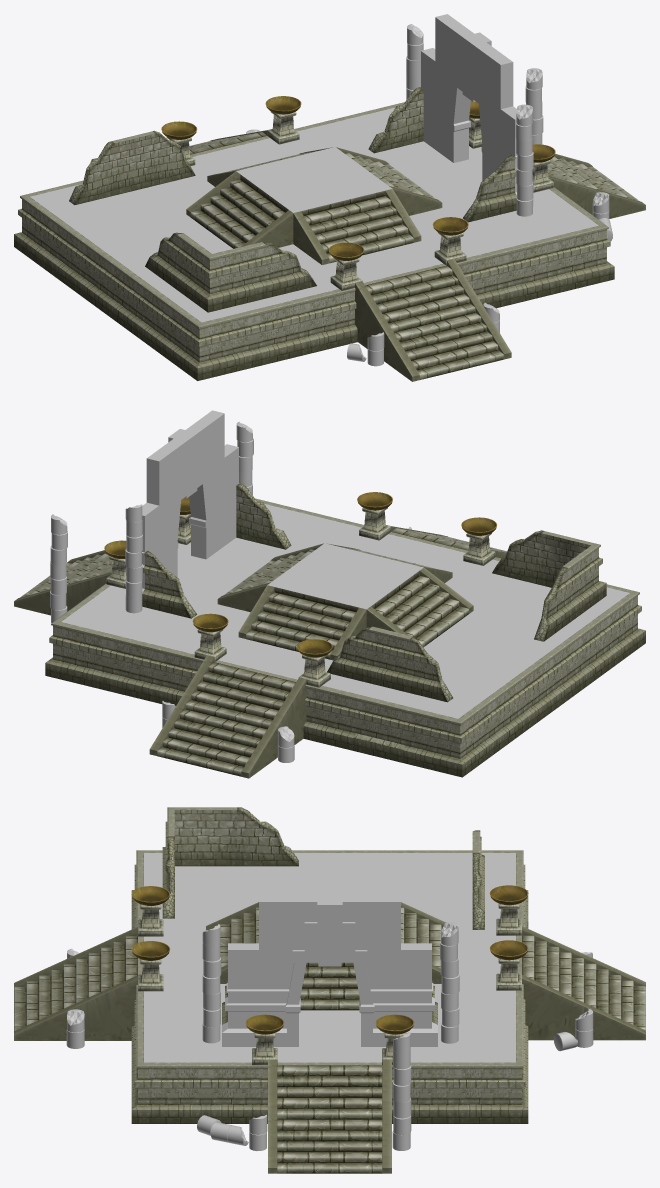
Rendered from Ruins.FBX.
The picture shows the model from 3 angles, top to bottom: view 1: azimuth 30°, elevation 25°; view 2: azimuth 150°, elevation 25°; view 3: azimuth 270°, elevation 25°; orthographic projection. The views are drawn at different scales.
Parts seen in each view (by area): view 1: Ruins; view 2: Ruins; view 3: Ruins.
Part boxes in pixels (x1,y1,x2,y2): Ruins: [14, 14, 645, 381]; Ruins: [14, 410, 645, 778]; Ruins: [14, 807, 645, 1173].
Bounding box in the file's own units: 20.6 × 7.1 × 20.4.
